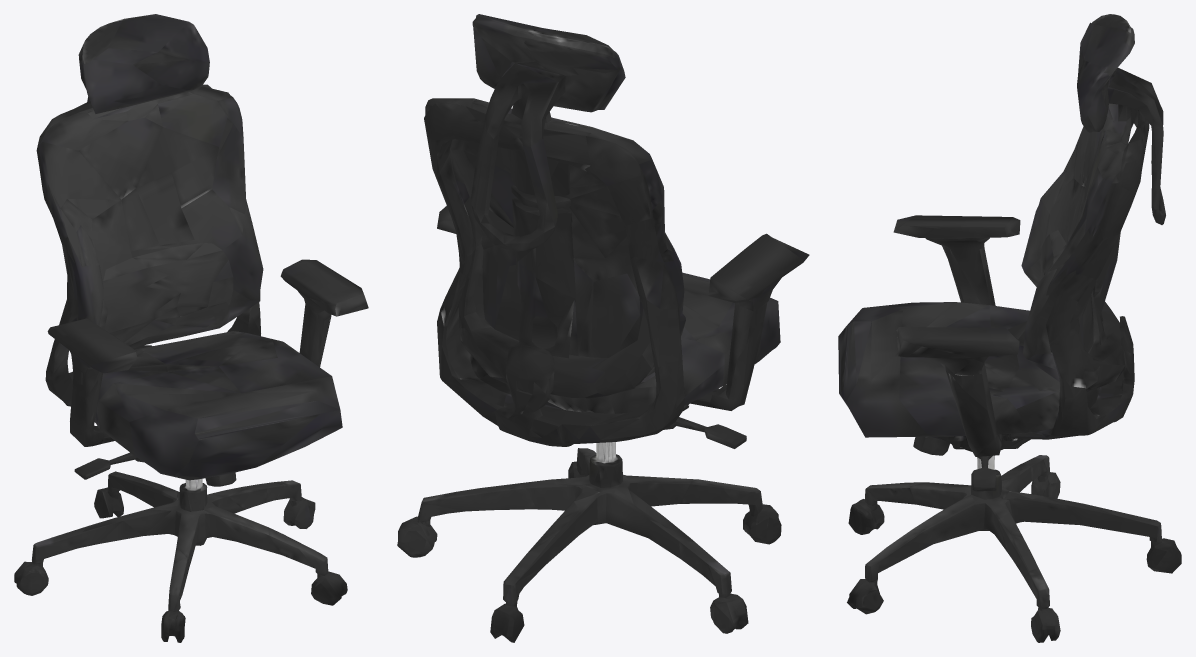
The model's file is chair.glb.
3 views of the same model, side by side, from view 1: azimuth 30°, elevation 25°; view 2: azimuth 150°, elevation 25°; view 3: azimuth 270°, elevation 25° (orthographic). The views are drawn at different scales.
Visible parts, largest first — view 1: Mesh_0; view 2: Mesh_0; view 3: Mesh_0.
Part boxes in pixels (x1=…): Mesh_0: x1=14, y1=14, x2=368, y2=642; Mesh_0: x1=397, y1=14, x2=809, y2=642; Mesh_0: x1=838, y1=14, x2=1181, y2=642.
Size of the model in its own units: 1.15 by 1.9 by 1.1.
Materials: 1 (1 with a texture image).
